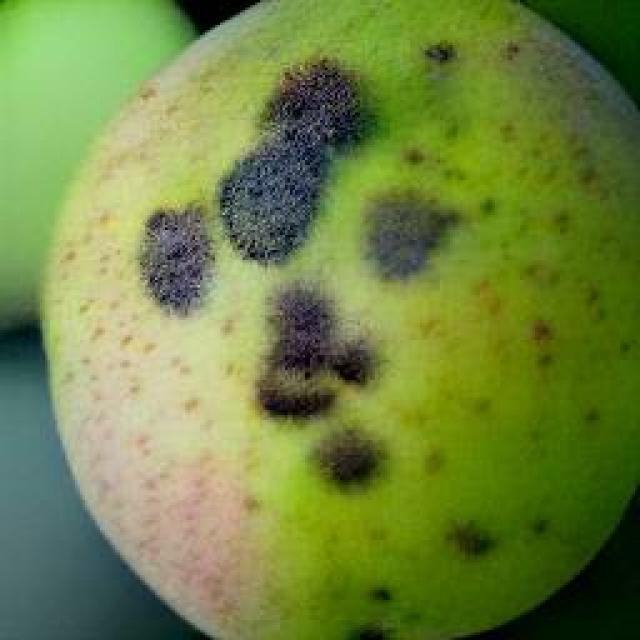defective: (35, 0, 638, 638)
